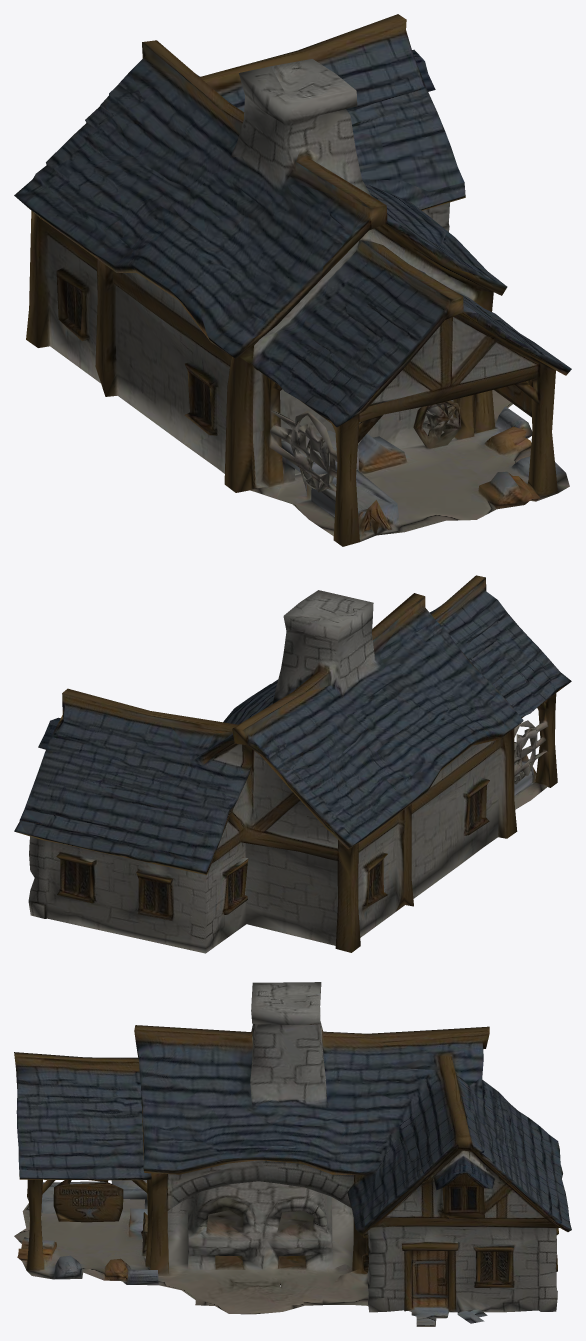
File: forge.glb
3 renders of one model, top to bottom at view 1: azimuth 30°, elevation 25°; view 2: azimuth 150°, elevation 25°; view 3: azimuth 270°, elevation 25°, orthographic. The views are drawn at different scales.
Parts seen in each view (by area): view 1: ForgeShell; view 2: ForgeShell; view 3: ForgeShell.
Boxes of the visible parts, bbox=[...] form: ForgeShell: bbox=[14, 14, 571, 546]; ForgeShell: bbox=[14, 575, 571, 953]; ForgeShell: bbox=[14, 982, 571, 1326].
Bounding box in the file's own units: 0.6367 × 0.4809 × 1.
1 material, 1 textured.
